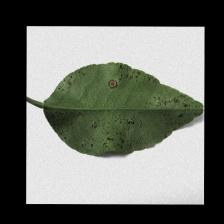canker: (67, 77, 160, 134)
